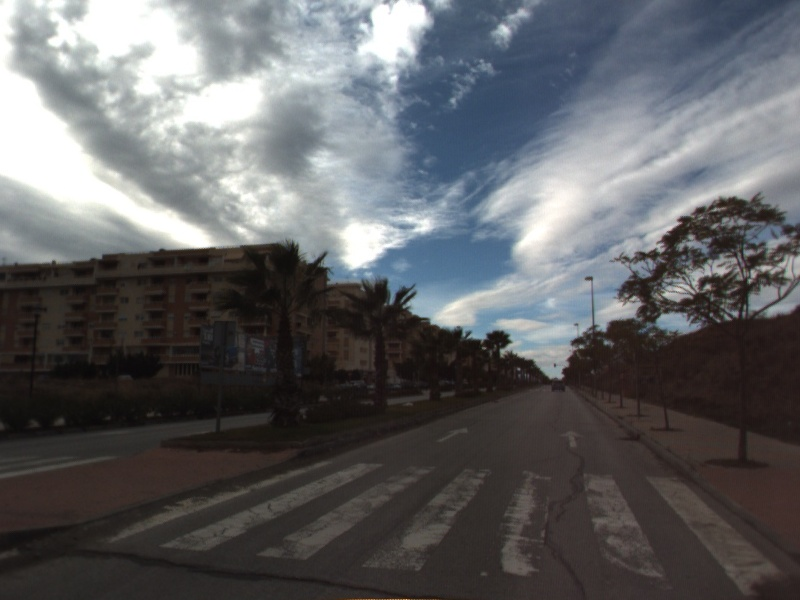STRAIGHT: (434, 425, 470, 444), (558, 427, 586, 449)
